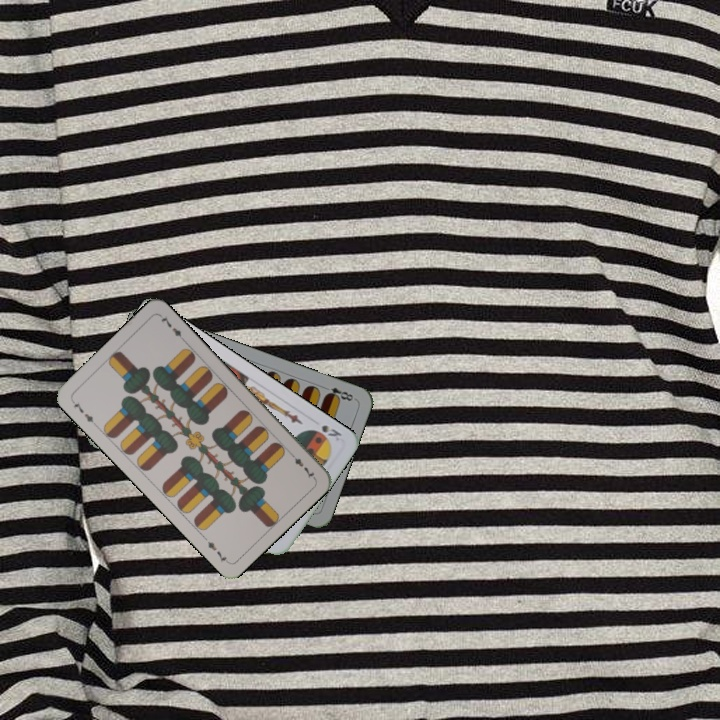E7: (285, 448, 317, 481), (68, 396, 99, 429)
E8: (319, 382, 356, 404)
SK: (317, 421, 344, 444)
